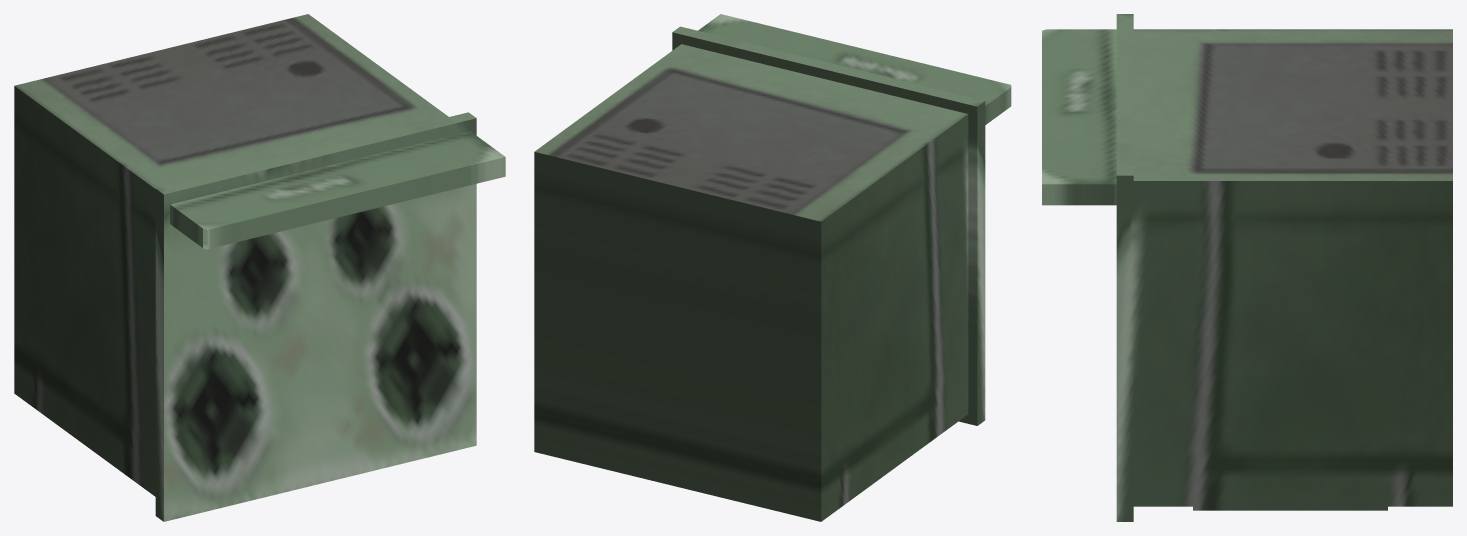
The model's file is pz_stove_green.obj.
3 renders of one model, left to right at view 1: azimuth 30°, elevation 25°; view 2: azimuth 150°, elevation 25°; view 3: azimuth 270°, elevation 25°, orthographic. The views are drawn at different scales.
Size of the model in its own units: 1 by 1 by 1.08.
Materials: 1 (1 with a texture image).
